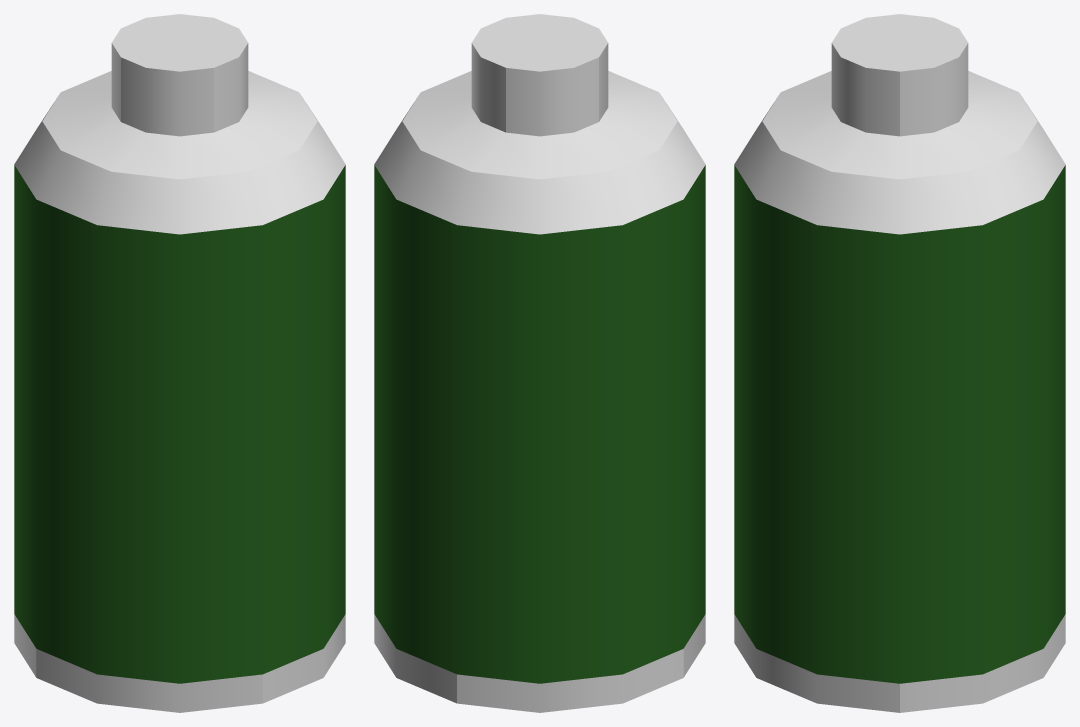
File: Bottle_1.fbx
3 views of the same model, side by side, from view 1: azimuth 30°, elevation 25°; view 2: azimuth 150°, elevation 25°; view 3: azimuth 270°, elevation 25° (orthographic).
Parts seen in each view (by area): view 1: Bottle1Color, Bottle1White; view 2: Bottle1Color, Bottle1White; view 3: Bottle1Color, Bottle1White.
Boxes of the visible parts, left/top/right/bottom form: Bottle1Color: left=14, top=165, right=345, bottom=683; Bottle1White: left=14, top=14, right=345, bottom=712; Bottle1Color: left=374, top=165, right=705, bottom=683; Bottle1White: left=374, top=14, right=705, bottom=712; Bottle1Color: left=734, top=165, right=1065, bottom=683; Bottle1White: left=734, top=14, right=1065, bottom=712.
Size of the model in its own units: 200 by 399 by 200.
